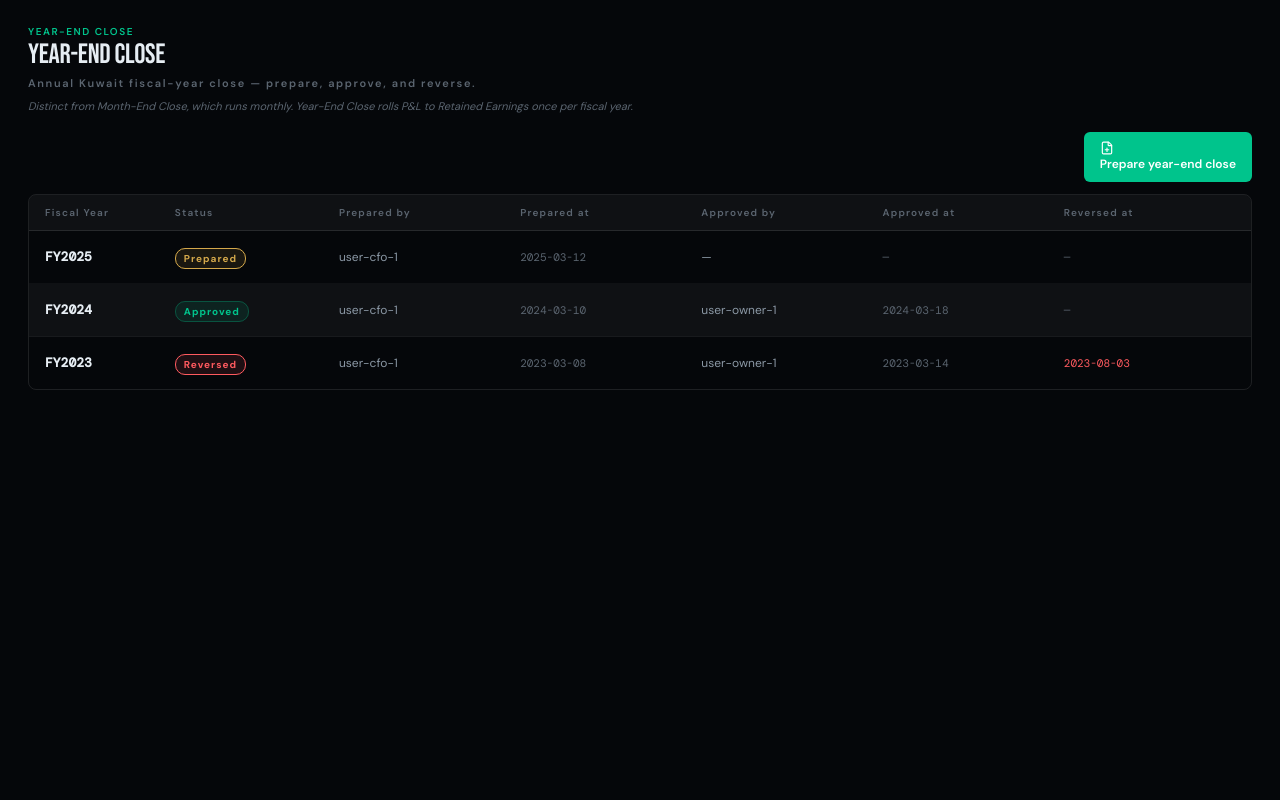
Test case: YearEndCloseScreen — detail view › APPROVED detail shows Reverse + FS export group (Owner)
Click the button with aria-label "Open fiscal-year detail". click: (76, 310)
box: [29,284,1251,337]
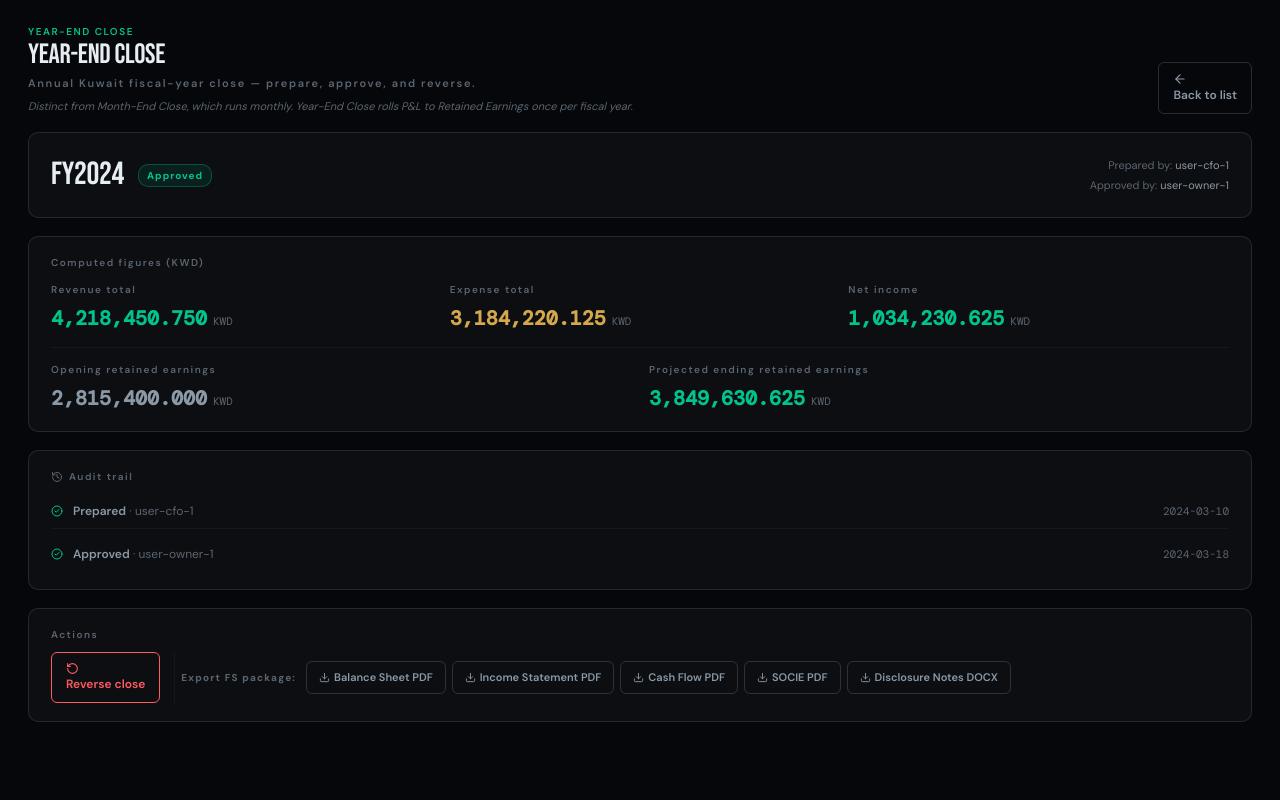
Now the element with test id "yec-detail-view" is shown
Now the button with test id "yec-action-reverse" is shown, box [51,652,160,703]
Now the element with test id "yec-export-group" is shown, box [174,652,1011,703]
